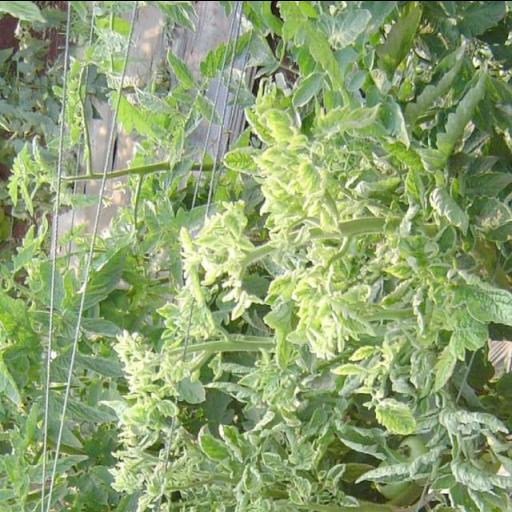disease_tomato: (450, 266, 512, 330), (372, 398, 414, 436), (198, 424, 234, 468), (222, 142, 262, 174), (432, 342, 456, 390), (241, 460, 264, 500), (292, 469, 316, 500), (346, 344, 378, 362), (330, 362, 368, 376)
